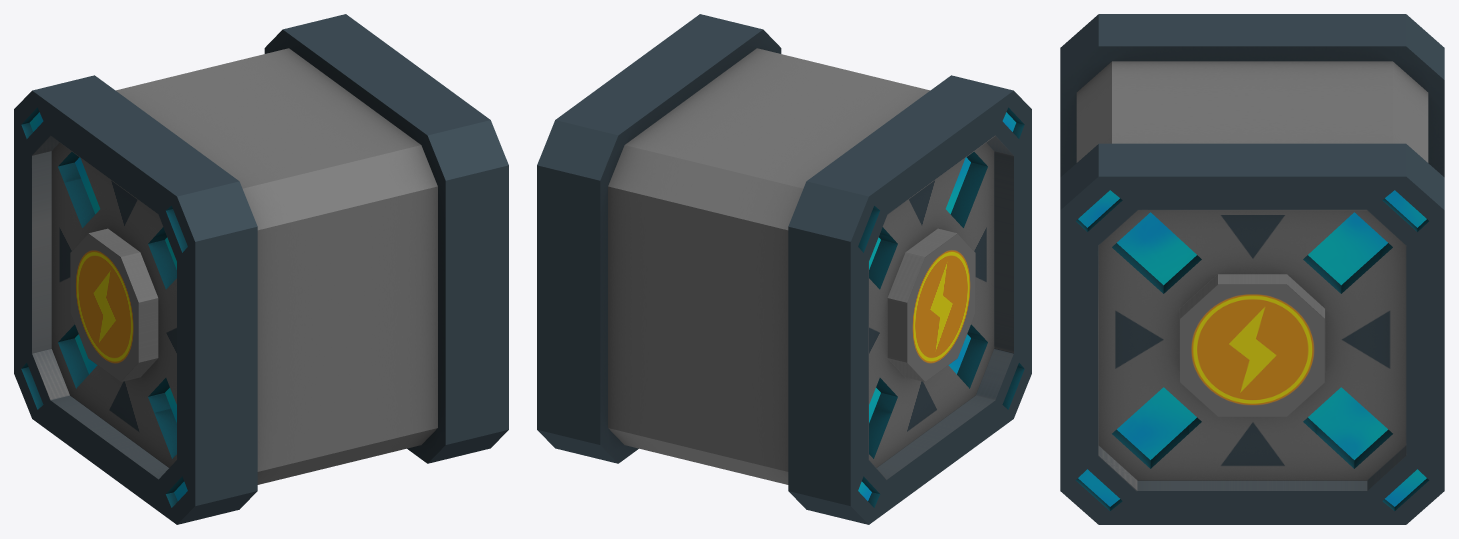
Rendered from Magnet.fbx.
The picture shows the model from 3 angles, left to right: view 1: azimuth 30°, elevation 25°; view 2: azimuth 150°, elevation 25°; view 3: azimuth 270°, elevation 25°; orthographic projection. The views are drawn at different scales.
Parts seen in each view (by area): view 1: Mugnet; view 2: Mugnet; view 3: Mugnet.
Boxes of the visible parts, <box> form: Mugnet: <box>14,14,508,524</box>; Mugnet: <box>537,14,1031,524</box>; Mugnet: <box>1060,14,1444,524</box>.
Size of the model in its own units: 100 by 100 by 100.
Materials: 1 (1 with a texture image).
